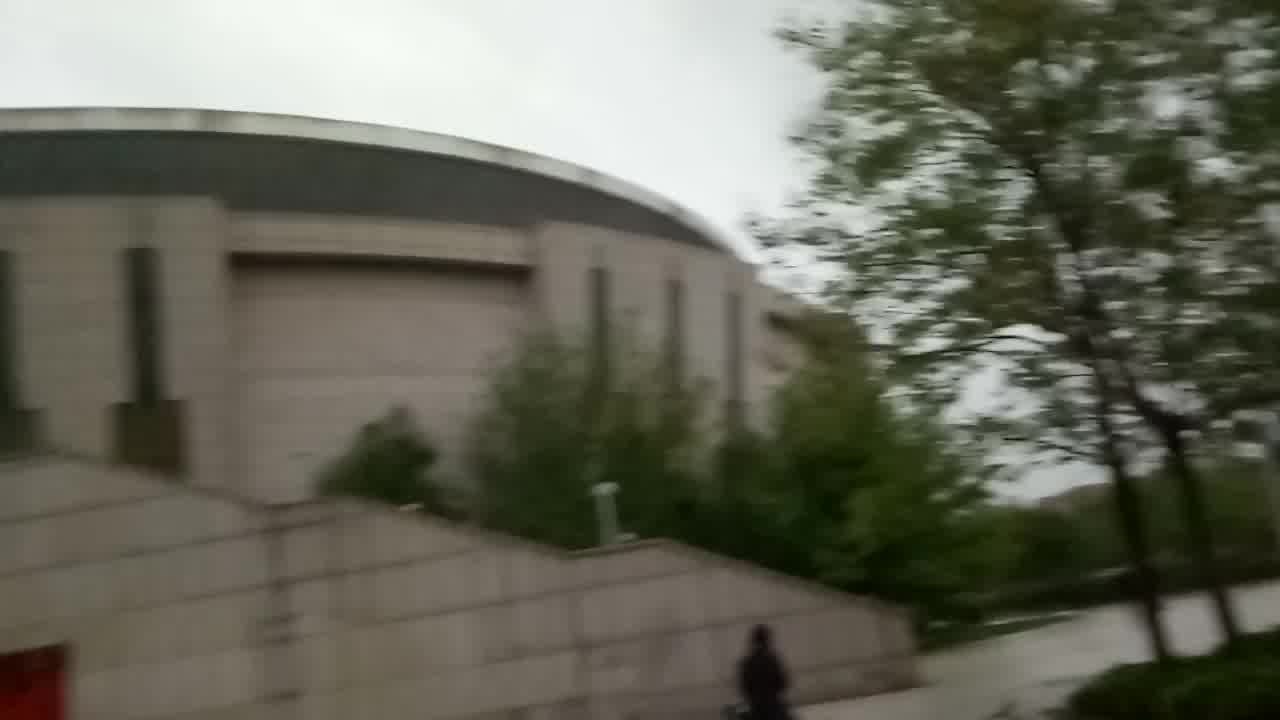zhongtiww: (10, 102, 921, 720)
